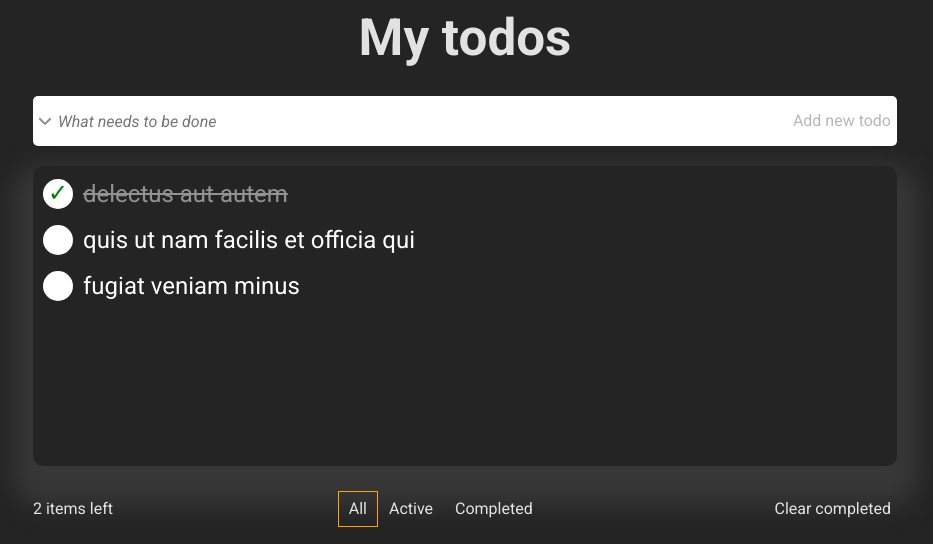
Scenario: App component › Clear all completed todos
This screenshot has width=933, height=544.
Step 1. Click the button "Clear completed" → point(833, 509), box [768,499,897,520]
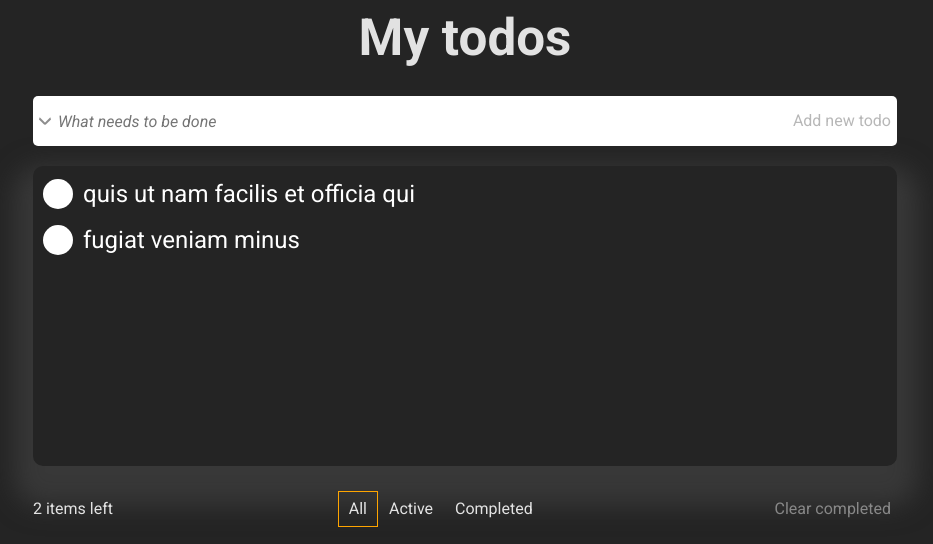
Expected: the number of elements with test id "todo-item" is 2, [43,179,415,209]; [43,225,300,255]
